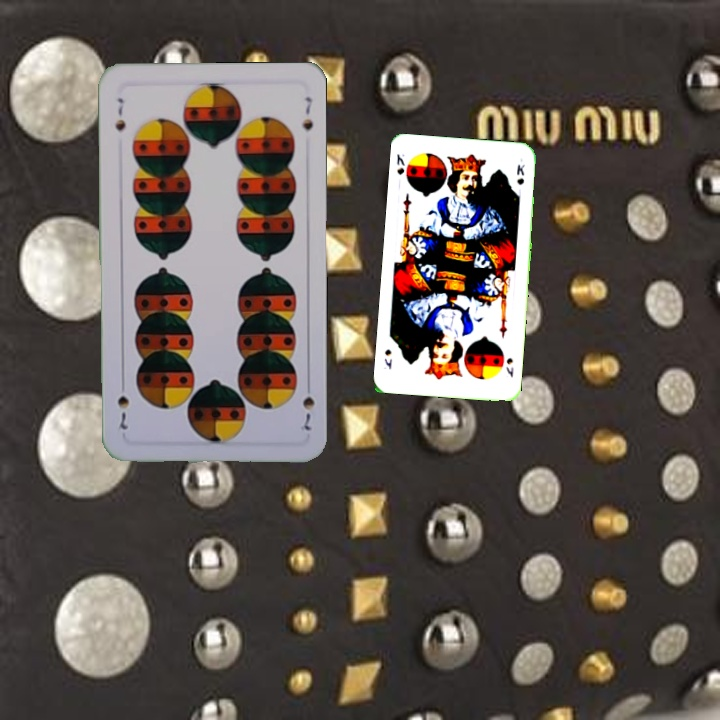S7: (298, 377, 317, 436), (111, 94, 128, 134)
SK: (393, 150, 407, 177), (502, 354, 516, 380)
